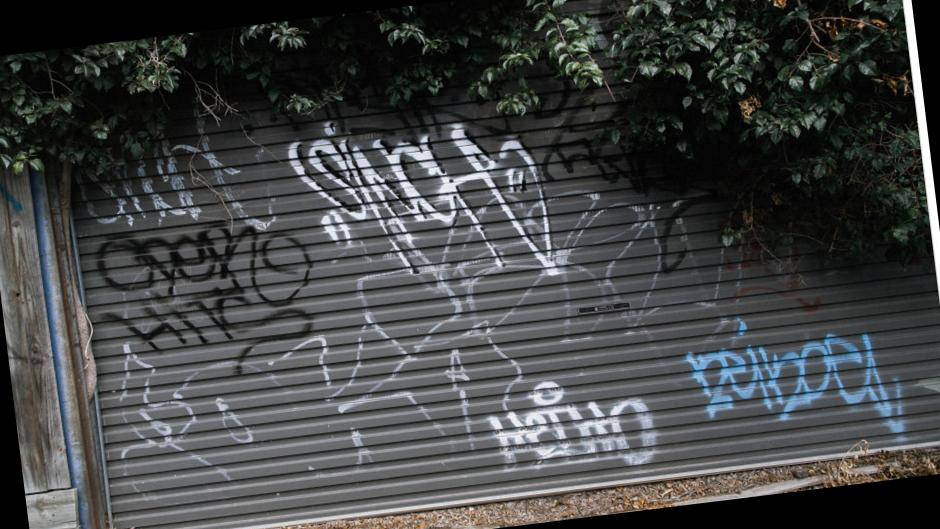graffiti: (280, 109, 572, 300), (86, 216, 323, 366), (690, 326, 908, 457), (479, 380, 672, 488), (71, 140, 264, 238)
